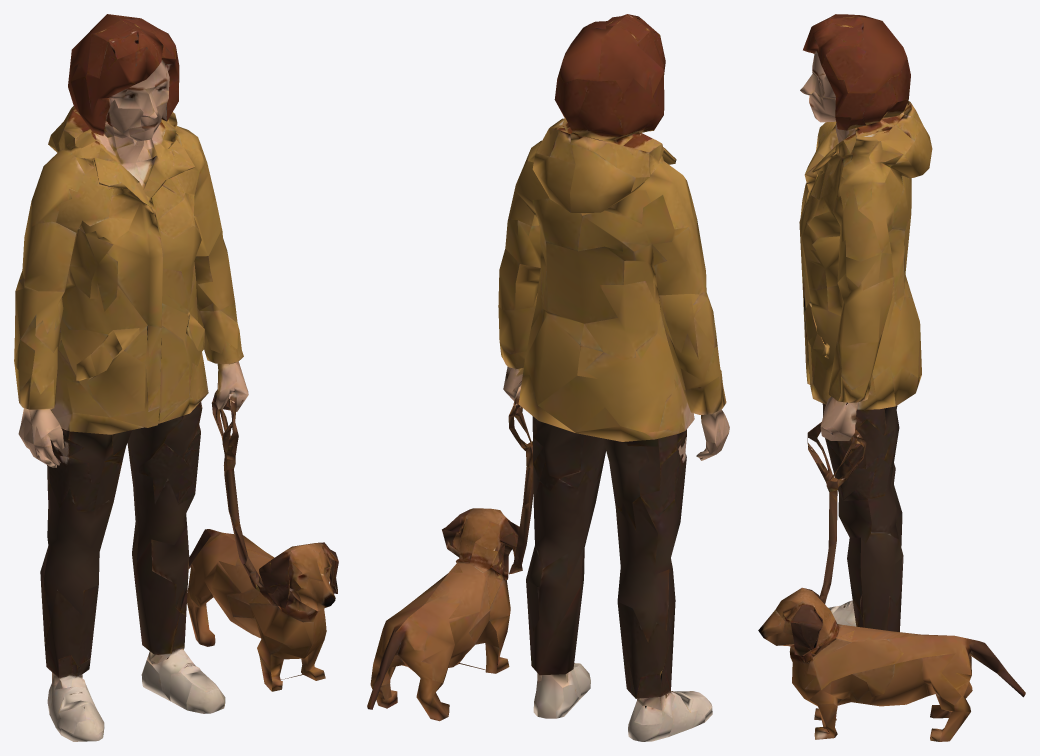
The model's file is getkong-ped4.glb.
3 renders of one model, left to right at view 1: azimuth 30°, elevation 25°; view 2: azimuth 150°, elevation 25°; view 3: azimuth 270°, elevation 25°, orthographic. The views are drawn at different scales.
Visible parts, largest first — view 1: output_unwrapped; view 2: output_unwrapped; view 3: output_unwrapped.
Boxes of the visible parts, bbox=[...] form: output_unwrapped: bbox=[14, 14, 338, 741]; output_unwrapped: bbox=[367, 14, 729, 741]; output_unwrapped: bbox=[758, 14, 1025, 741].
Bounding box in the file's own units: 0.8586 × 1.9 × 0.7199.
1 material, 1 textured.
